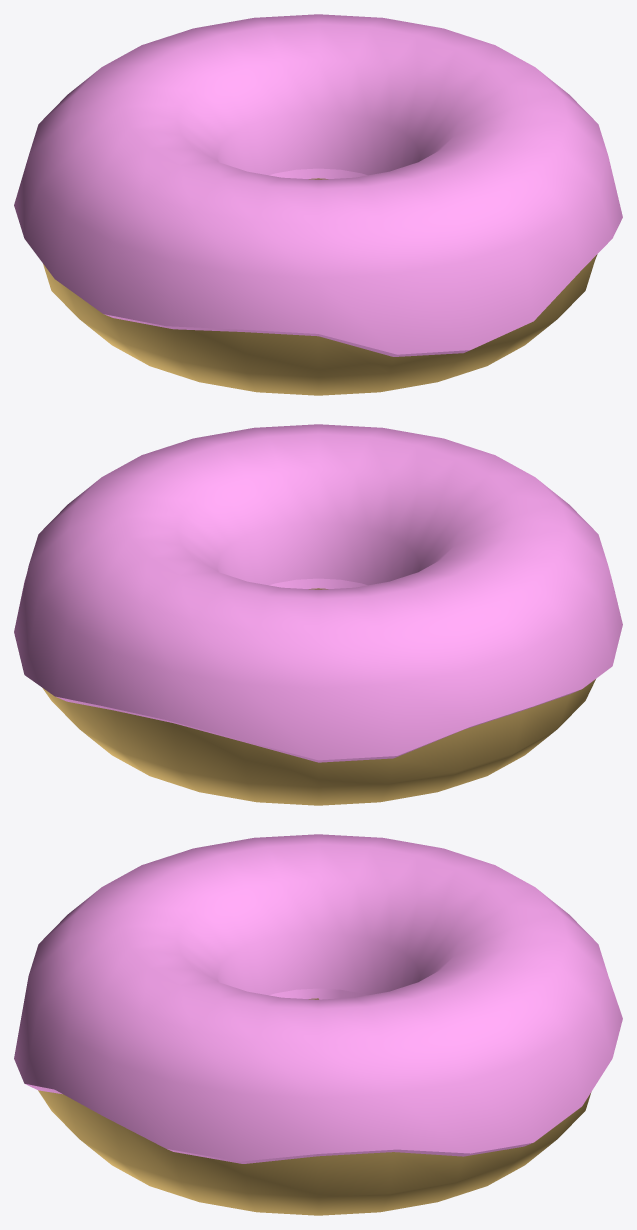
File: Unwrapped_Donut2.fbx
3 renders of one model, top to bottom at view 1: azimuth 30°, elevation 25°; view 2: azimuth 150°, elevation 25°; view 3: azimuth 270°, elevation 25°, orthographic.
Visible parts, largest first — view 1: Torus001; view 2: Torus001; view 3: Torus001.
Part boxes in pixels (x1,y1,x2,y2): Torus001: [14, 14, 622, 395]; Torus001: [14, 424, 622, 805]; Torus001: [14, 834, 622, 1215].
Size of the model in its own units: 40.68 by 14.8 by 40.68.
